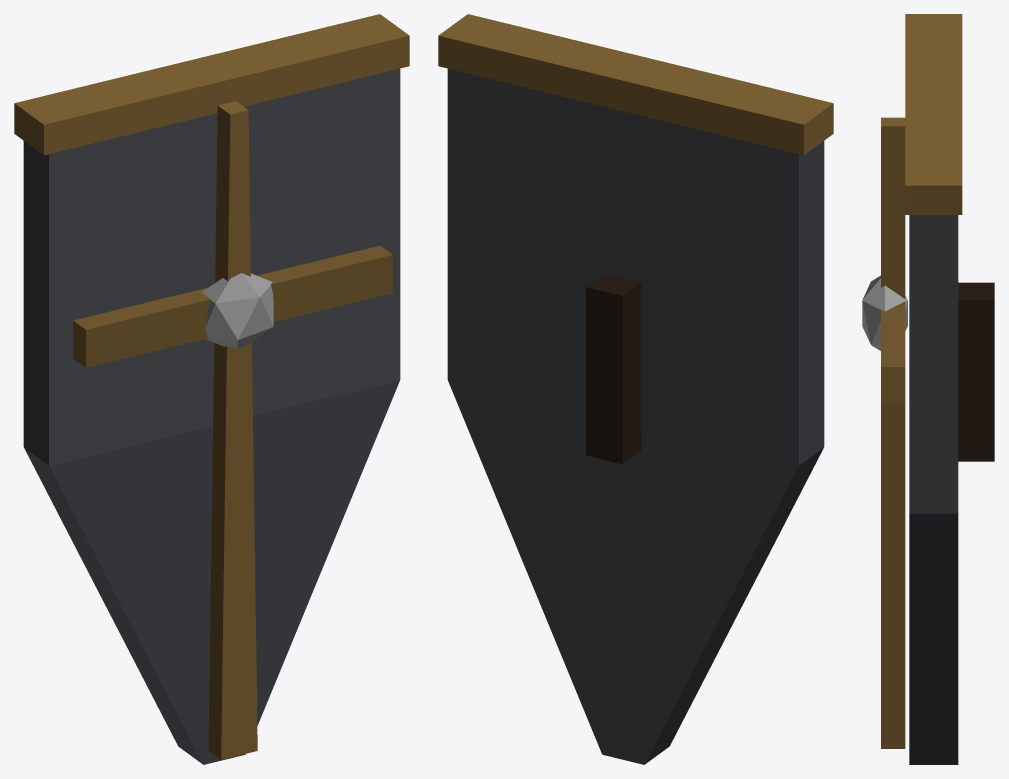
Rendered from iron_shield.glb.
The picture shows the model from 3 angles, left to right: view 1: azimuth 30°, elevation 25°; view 2: azimuth 150°, elevation 25°; view 3: azimuth 270°, elevation 25°; orthographic projection. The views are drawn at different scales.
Visible parts, largest first — view 1: IronShield; view 2: IronShield; view 3: IronShield.
Part boxes in pixels (left/top/right/bottom): IronShield: left=14, top=14, right=409, bottom=764; IronShield: left=438, top=14, right=833, bottom=764; IronShield: left=862, top=14, right=994, bottom=764.
Bounding box in the file's own units: 0.5 × 0.89 × 0.1631.
